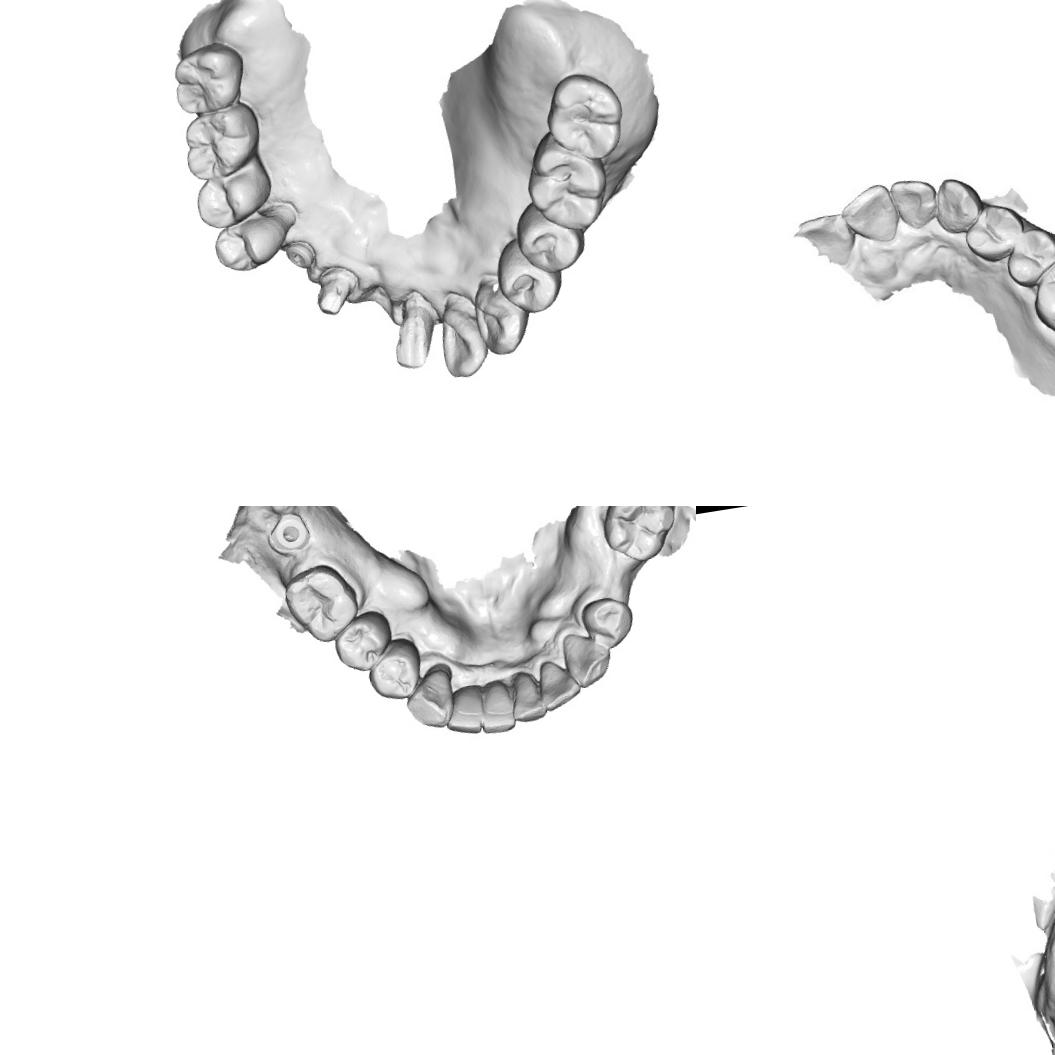canine: (470, 281, 528, 360), (401, 668, 459, 734), (560, 626, 615, 692), (927, 173, 983, 237)
crown: (384, 293, 441, 372), (310, 262, 364, 320)
implant: (264, 507, 315, 556)
implant_minus: (282, 238, 317, 272)
incisor: (431, 290, 489, 382), (838, 180, 906, 247), (885, 173, 942, 232), (535, 656, 584, 712), (440, 684, 486, 738), (474, 680, 518, 736), (506, 669, 548, 724)
molar: (519, 126, 614, 240), (538, 66, 630, 166), (279, 558, 363, 648), (166, 37, 252, 120), (178, 103, 266, 184), (593, 506, 682, 567), (1023, 251, 1055, 345)
premolar: (512, 194, 591, 278), (491, 232, 566, 319), (188, 164, 278, 232), (210, 210, 288, 278), (959, 200, 1028, 268), (329, 607, 397, 676), (363, 637, 426, 704), (998, 220, 1055, 289), (578, 593, 638, 652)
